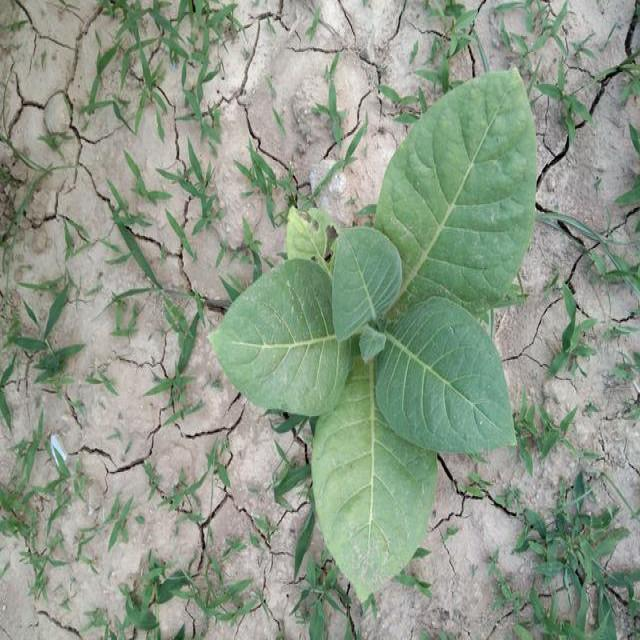crop: (226, 73, 538, 584)
